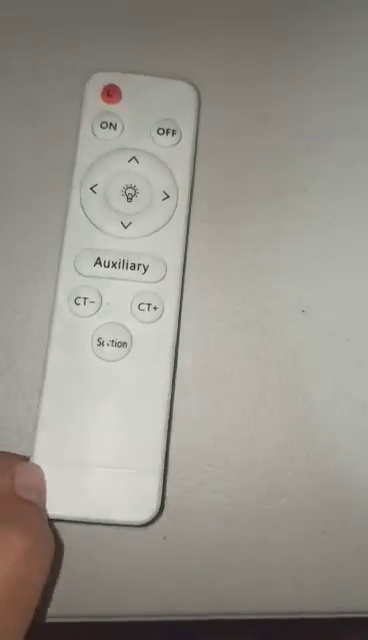remote: (29, 75, 202, 523)
